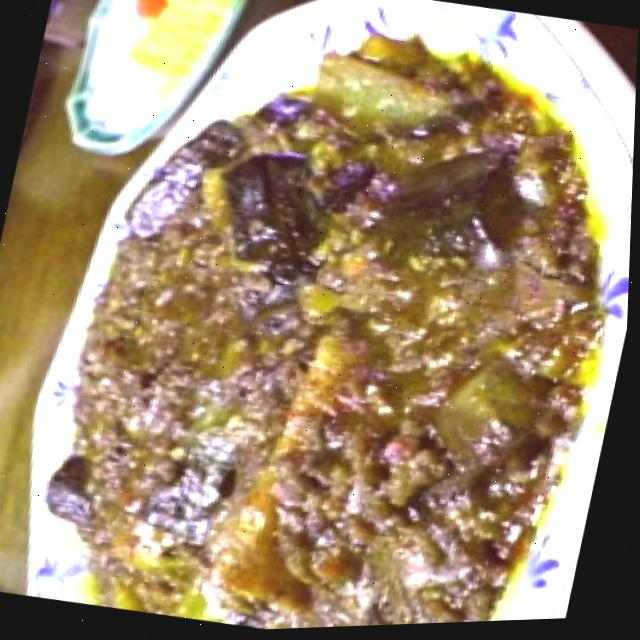豆腐料理: (48, 0, 640, 638)
